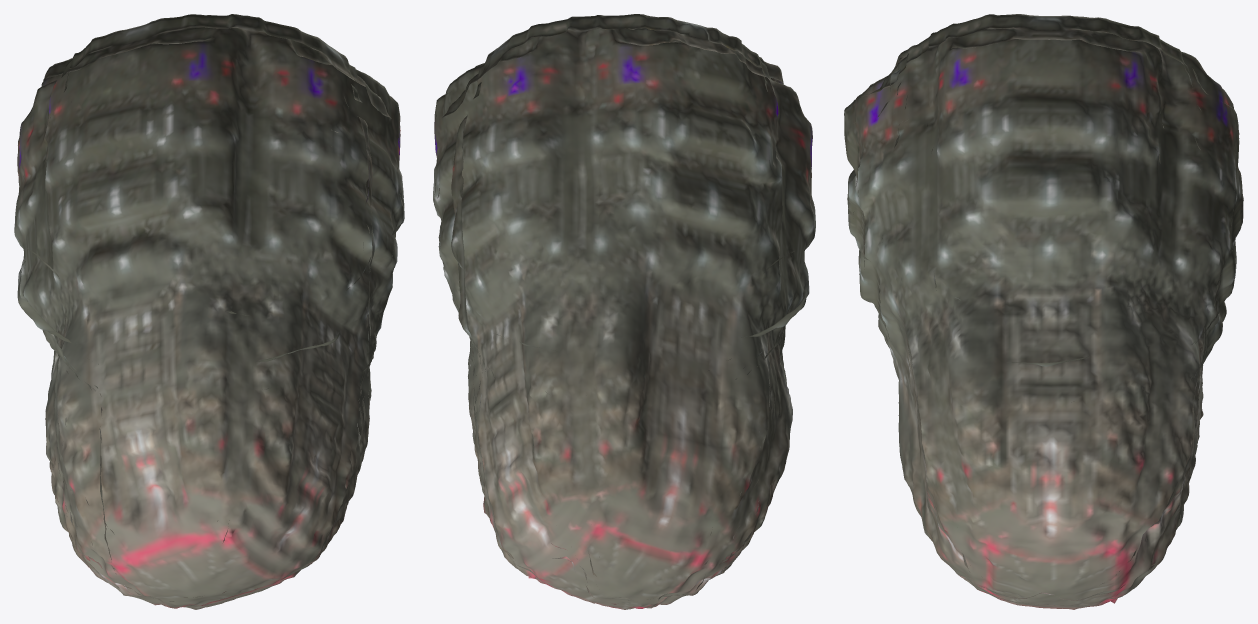
Rendered from collider.glb.
3 renders of one model, left to right at view 1: azimuth 30°, elevation 25°; view 2: azimuth 150°, elevation 25°; view 3: azimuth 270°, elevation 25°, orthographic.
Parts seen in each view (by area): view 1: world; view 2: world; view 3: world.
Part boxes in pixels (x1,y1,x2,y2): world: [14, 14, 404, 609]; world: [433, 14, 815, 609]; world: [844, 14, 1243, 609].
Size of the model in its own units: 3.19 by 4.64 by 3.2.
